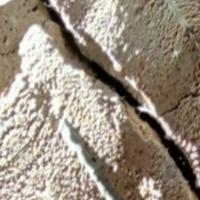crack: (45, 0, 199, 191)
